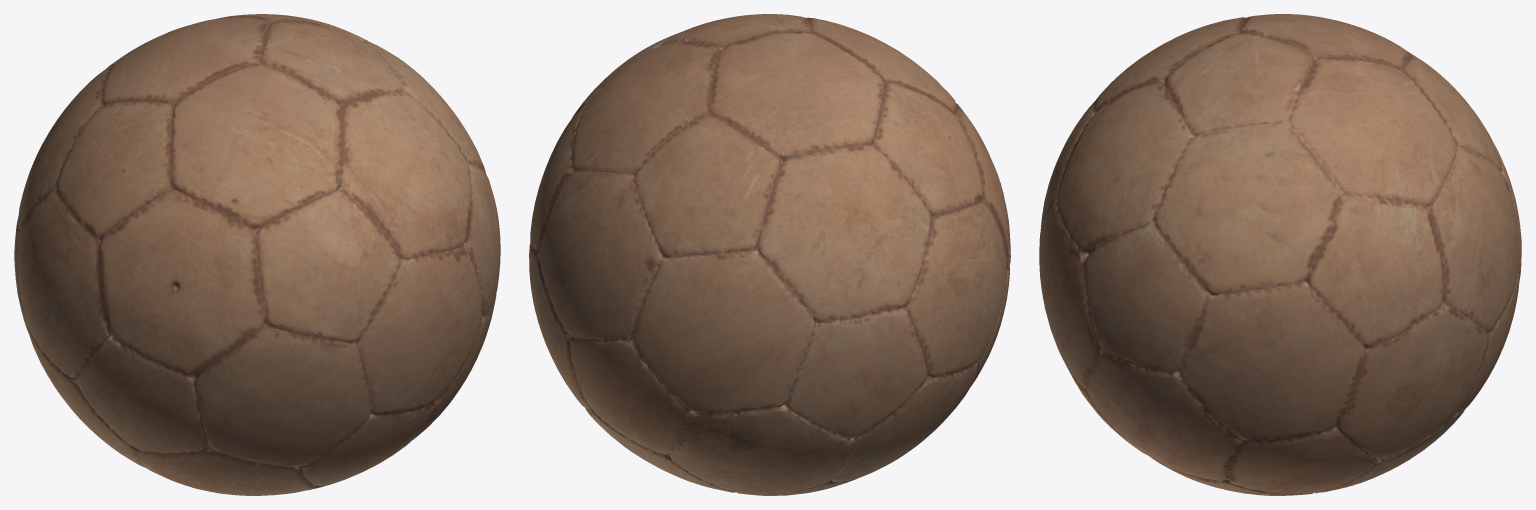
Rendered from dirty_football.glb.
3 views of the same model, side by side, from view 1: azimuth 30°, elevation 25°; view 2: azimuth 150°, elevation 25°; view 3: azimuth 270°, elevation 25° (orthographic).
Parts seen in each view (by area): view 1: dirty_football; view 2: dirty_football; view 3: dirty_football.
Part boxes in pixels (left/top/right/bottom): dirty_football: left=14, top=14, right=500, bottom=495; dirty_football: left=529, top=14, right=1010, bottom=495; dirty_football: left=1039, top=14, right=1521, bottom=495.
Bounding box in the file's own units: 0.2214 × 0.22 × 0.22.
1 material, 1 textured.
